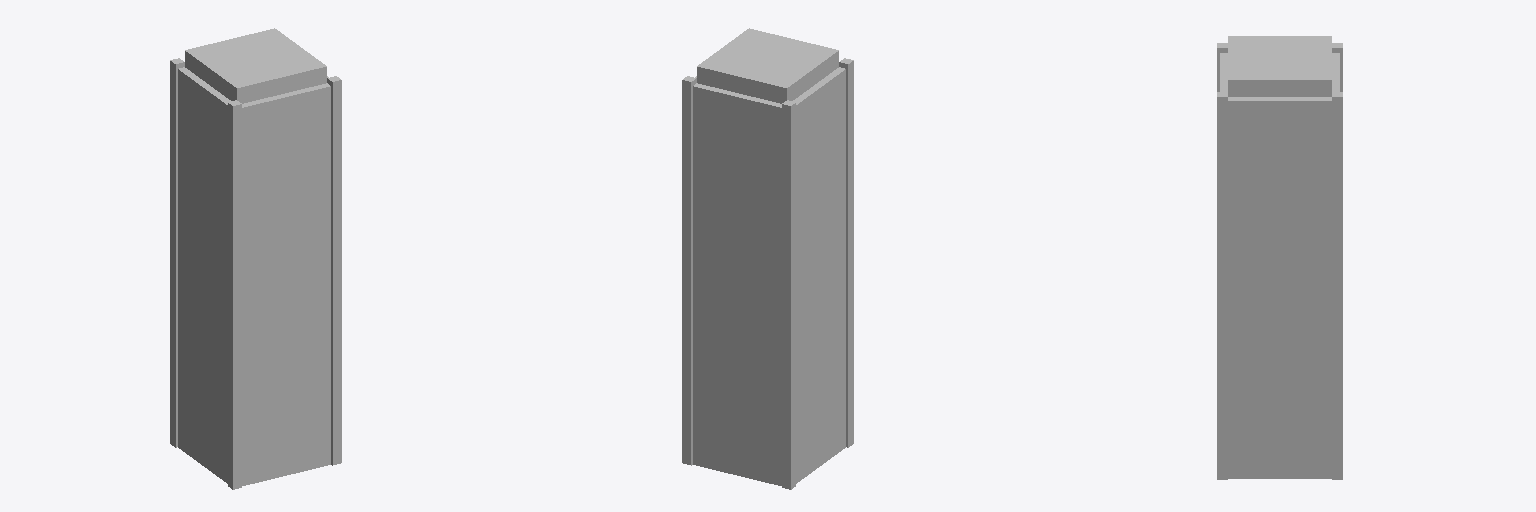
The model's file is skyscraper8.obj.
The picture shows the model from 3 angles: view 1: azimuth 30°, elevation 25°; view 2: azimuth 150°, elevation 25°; view 3: azimuth 270°, elevation 25°; orthographic projection.
Visible parts, largest first — view 1: skyscraper_8; view 2: skyscraper_8; view 3: skyscraper_8.
Part boxes in pixels (bbox=[...]): skyscraper_8: bbox=[170, 28, 341, 489]; skyscraper_8: bbox=[682, 28, 853, 489]; skyscraper_8: bbox=[1217, 36, 1342, 479].
Bounding box in the file's own units: 385 × 1336 × 385.